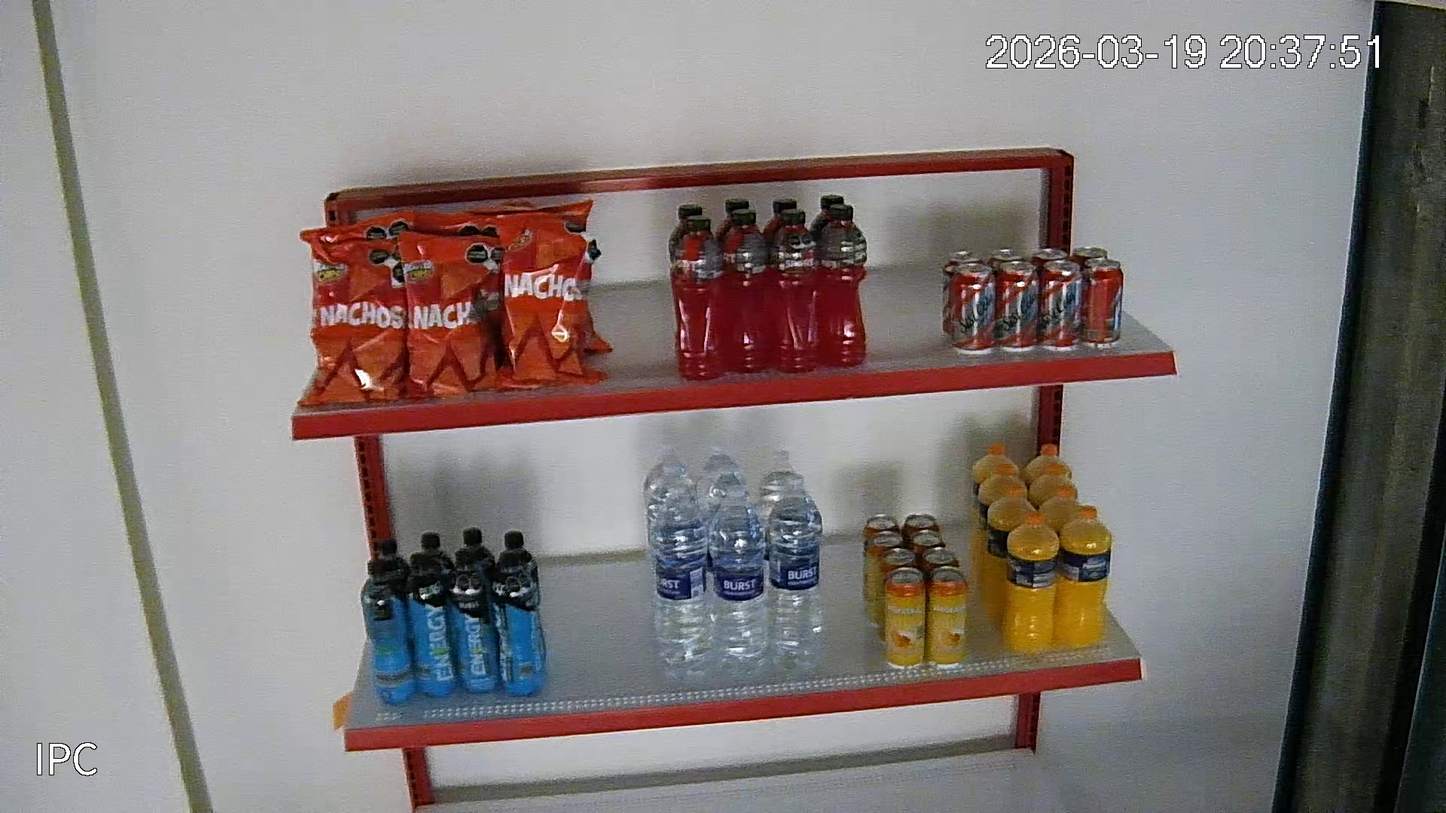agua_burst: (765, 478, 823, 668), (658, 484, 710, 676), (712, 485, 766, 667)
burst_energetica_roja: (666, 204, 700, 265), (809, 195, 843, 241), (763, 199, 796, 245)
burst_energy: (362, 559, 416, 705), (462, 529, 495, 578), (378, 538, 408, 587)
nachos_naturasol: (398, 232, 505, 401), (464, 201, 591, 235), (301, 213, 414, 242)
nebraska_mango: (885, 568, 925, 664), (925, 567, 965, 662), (911, 530, 944, 563)
sisi_cola: (949, 262, 994, 352), (1041, 261, 1082, 345), (987, 246, 1024, 272)
sun_paradise_naranja: (983, 486, 1039, 623), (1021, 443, 1070, 487), (1040, 487, 1080, 530)
